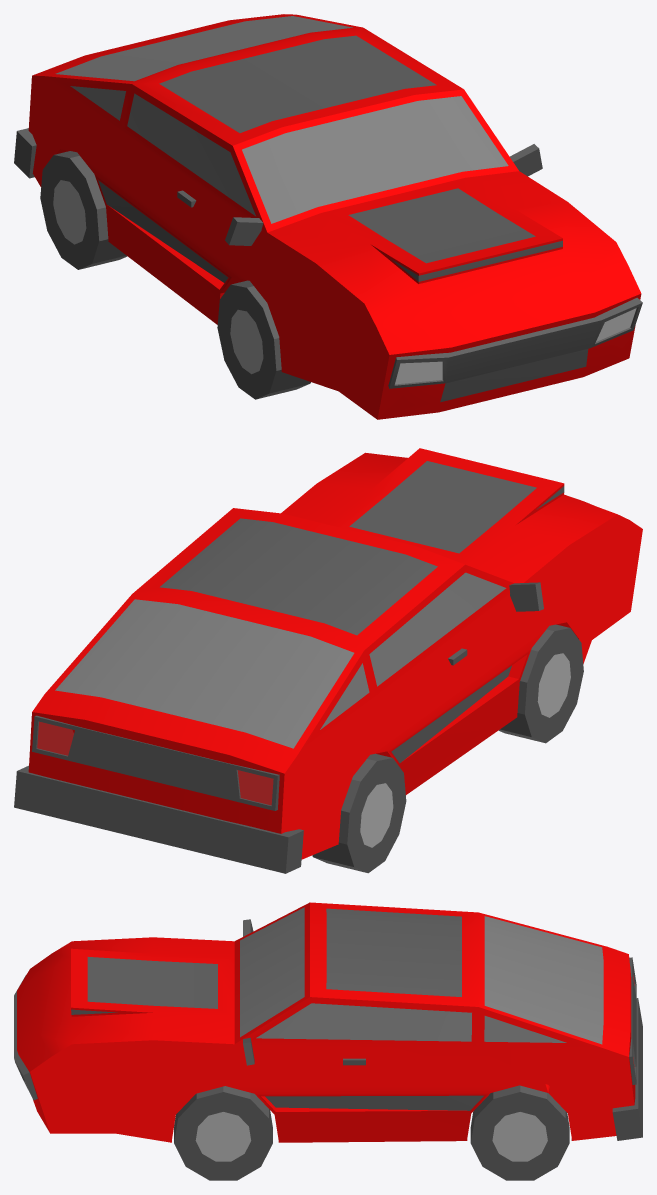
Rendered from SM_Car_06_04.FBX.
3 renders of one model, top to bottom at view 1: azimuth 30°, elevation 25°; view 2: azimuth 150°, elevation 25°; view 3: azimuth 270°, elevation 25°, orthographic. The views are drawn at different scales.
Parts seen in each view (by area): view 1: SM_Car_06_04, SM_Wheel_RBack001, SM_Wheel_LFront001; view 2: SM_Car_06_04, SM_Wheel_RBack001, SM_Wheel_LFront001; view 3: SM_Car_06_04, SM_Wheel_LBack001, SM_Wheel_LFront002.
Boxes of the visible parts, box(x1,y1,x2,y2) form: SM_Car_06_04: box(14, 14, 642, 419); SM_Wheel_RBack001: box(40, 151, 127, 269); SM_Wheel_LFront001: box(217, 280, 310, 399); SM_Car_06_04: box(14, 448, 642, 873); SM_Wheel_RBack001: box(312, 753, 406, 873); SM_Wheel_LFront001: box(498, 624, 583, 743); SM_Car_06_04: box(14, 902, 642, 1142); SM_Wheel_LBack001: box(470, 1085, 569, 1180); SM_Wheel_LFront002: box(174, 1086, 272, 1180).
Size of the model in its own units: 1.52 by 0.9605 by 3.15.
Materials: 1 (1 with a texture image).
